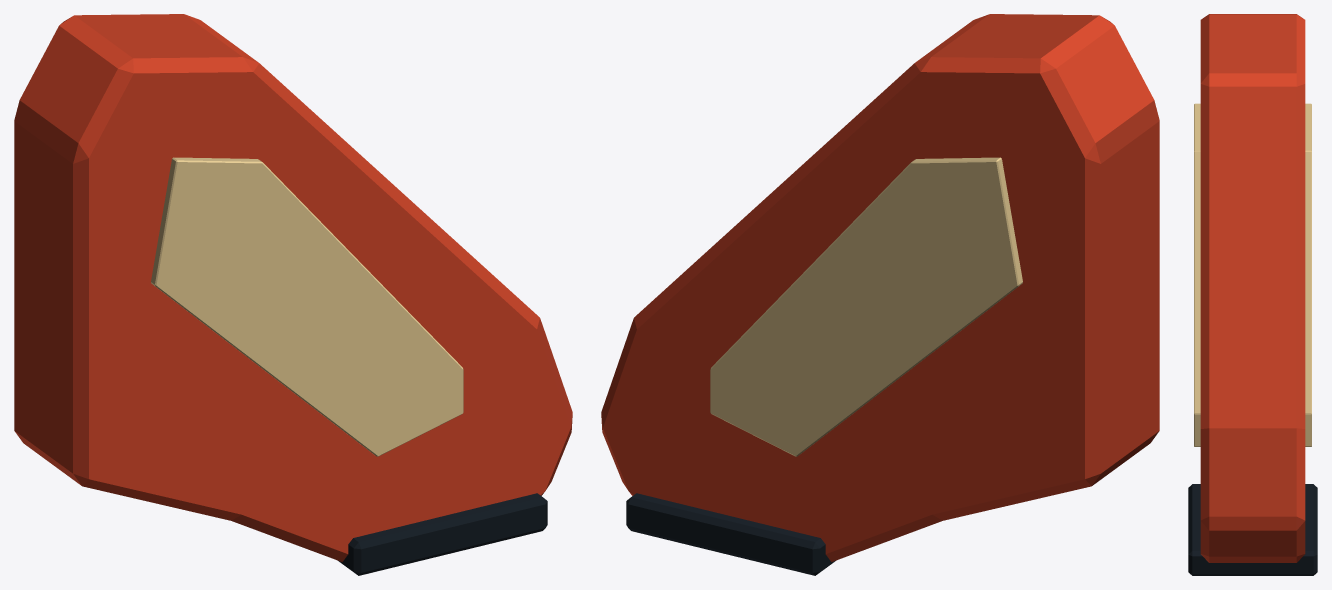
Rendered from QR_PaddleFin.fbx.
The picture shows the model from 3 angles, left to right: view 1: azimuth 30°, elevation 25°; view 2: azimuth 150°, elevation 25°; view 3: azimuth 270°, elevation 25°; orthographic projection. The views are drawn at different scales.
Visible parts, largest first — view 1: QR_PaddleFin; view 2: QR_PaddleFin; view 3: QR_PaddleFin.
Boxes of the visible parts, x1,y1,x2,y2 form: QR_PaddleFin: (14, 14, 572, 575); QR_PaddleFin: (601, 14, 1159, 575); QR_PaddleFin: (1188, 14, 1317, 575).
Bounding box in the file's own units: 0.6956 × 0.747 × 0.21.
3 materials, 3 textured.
